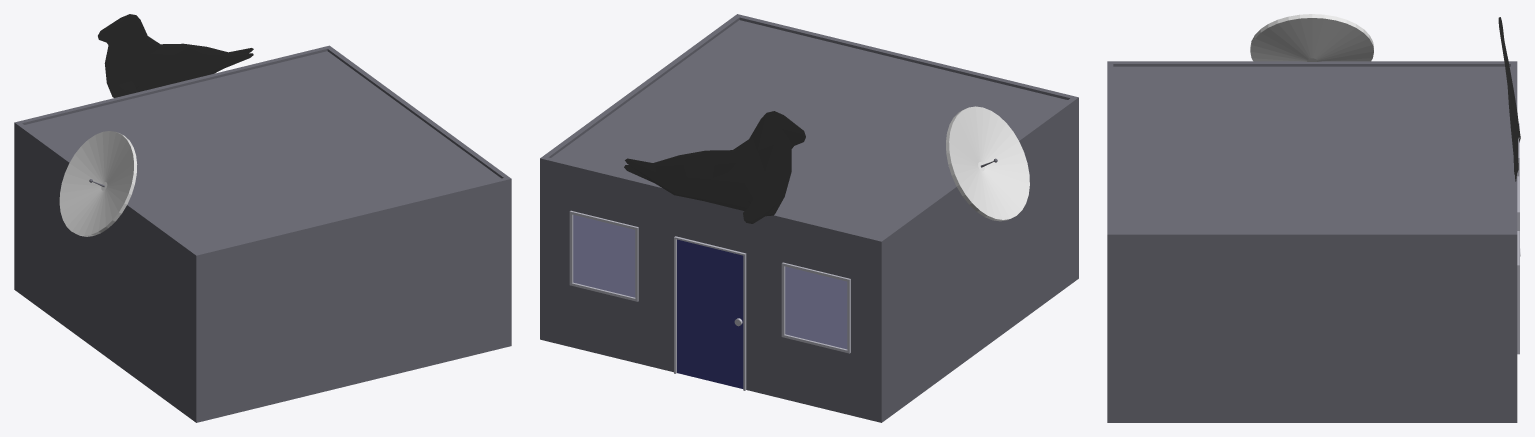
The model's file is Seal Centre.fbx.
3 renders of one model, left to right at view 1: azimuth 30°, elevation 25°; view 2: azimuth 150°, elevation 25°; view 3: azimuth 270°, elevation 25°, orthographic. The views are drawn at different scales.
Parts seen in each view (by area): view 1: Seal Centre; view 2: Seal Centre; view 3: Seal Centre.
Part boxes in pixels (x1,y1,x2,y2): Seal Centre: (14, 14, 511, 422); Seal Centre: (540, 14, 1078, 422); Seal Centre: (1107, 14, 1520, 422).
Bounding box in the file's own units: 221 × 155 × 202.
